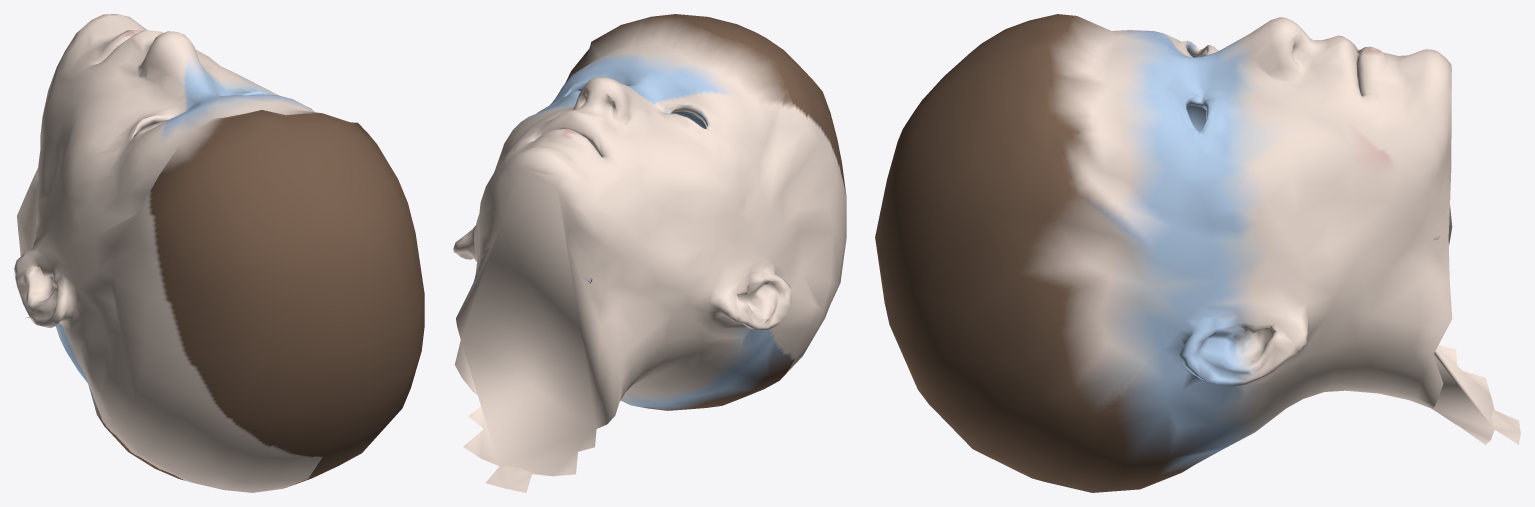
The model's file is primm_head_authored.glb.
3 renders of one model, left to right at view 1: azimuth 30°, elevation 25°; view 2: azimuth 150°, elevation 25°; view 3: azimuth 270°, elevation 25°, orthographic. The views are drawn at different scales.
Parts seen in each view (by area): view 1: Human; view 2: Human; view 3: Human.
Boxes of the visible parts, x1=… form: Human: x1=14, y1=14, x2=424, y2=492; Human: x1=453, y1=14, x2=846, y2=492; Human: x1=875, y1=14, x2=1520, y2=492.
Bounding box in the file's own units: 0.203 × 0.2347 × 0.3012.
1 material, 1 textured.
